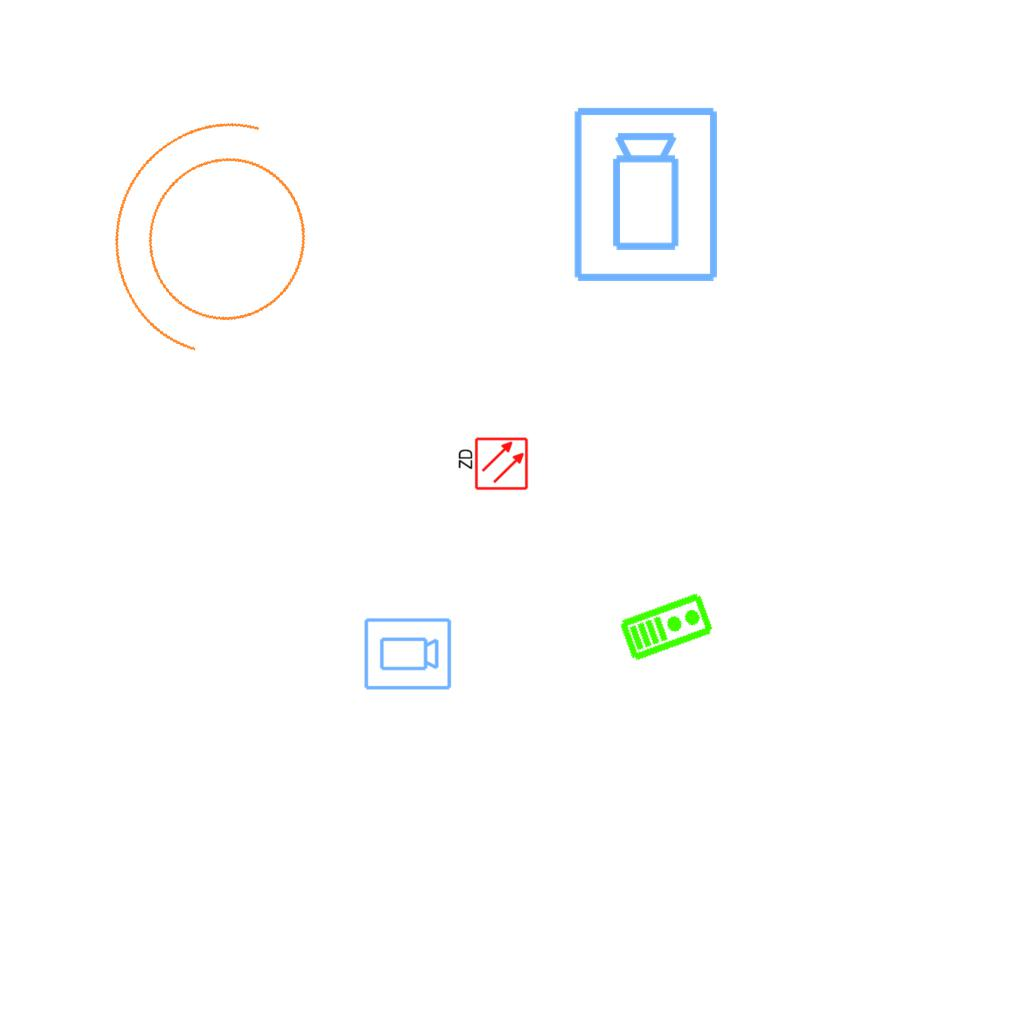Gegensprechanlage_mit_Video: (617, 588, 716, 664)
KFO_Kamera_mit_Festobjektiv: (570, 104, 724, 286), (362, 616, 453, 693)
Scheinwerfer_fuer_Alarmbeleuchtung: (71, 84, 361, 401)
ZD_Melder_in_Zwischendecke_mit_Revisionsoeffnung_mind_40_x_40_cm: (455, 436, 529, 493)
